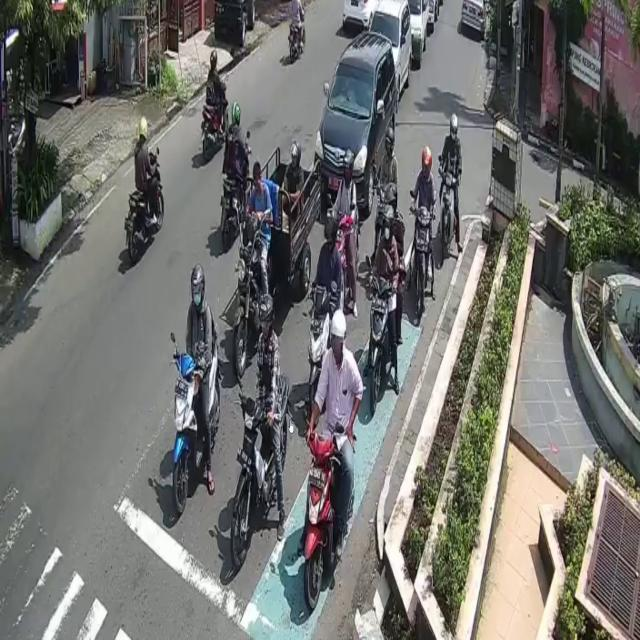bus: (230, 376, 290, 572), (172, 327, 221, 517), (304, 430, 342, 616), (232, 246, 273, 367), (126, 152, 165, 266), (222, 139, 252, 253), (306, 285, 328, 418), (371, 266, 392, 399), (413, 202, 435, 323), (202, 79, 228, 161), (440, 171, 457, 263)
motorcycle: (314, 30, 396, 216), (369, 0, 412, 91)
